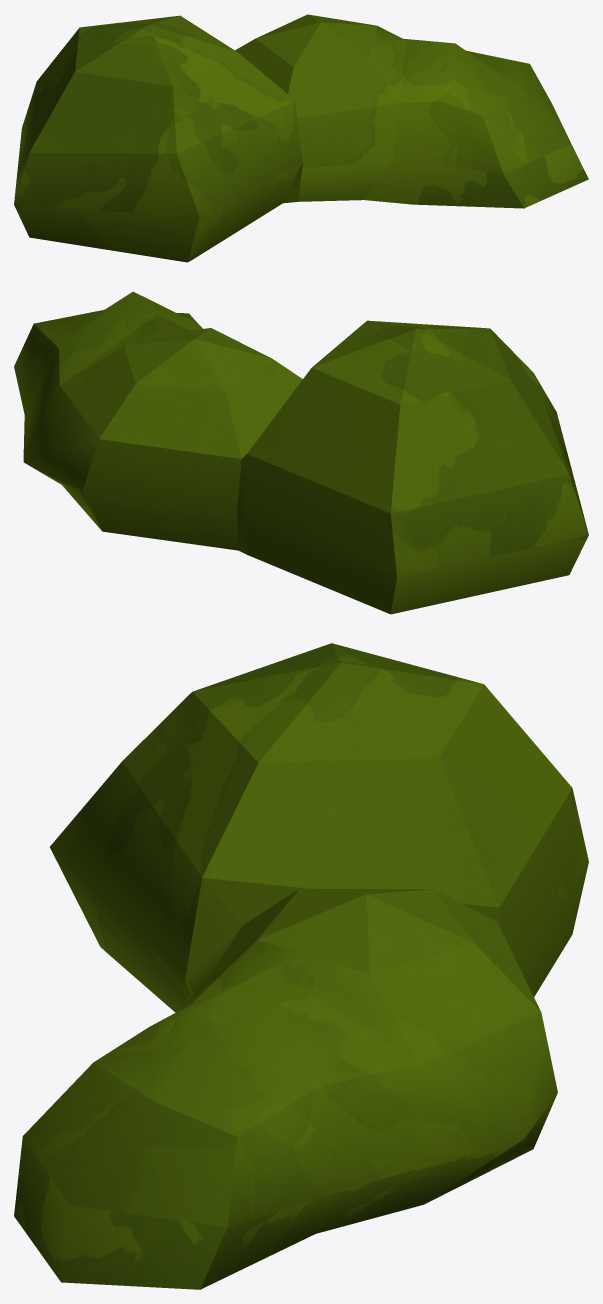
The model's file is buisson1.fbx.
3 renders of one model, top to bottom at view 1: azimuth 30°, elevation 25°; view 2: azimuth 150°, elevation 25°; view 3: azimuth 270°, elevation 25°, orthographic. The views are drawn at different scales.
Parts seen in each view (by area): view 1: buisson1; view 2: buisson1; view 3: buisson1.
Boxes of the visible parts, x1,y1,x2,y2 form: buisson1: [14, 14, 588, 262]; buisson1: [14, 291, 588, 614]; buisson1: [14, 643, 588, 1289].
Size of the model in its own units: 11.04 by 3.78 by 6.22.
